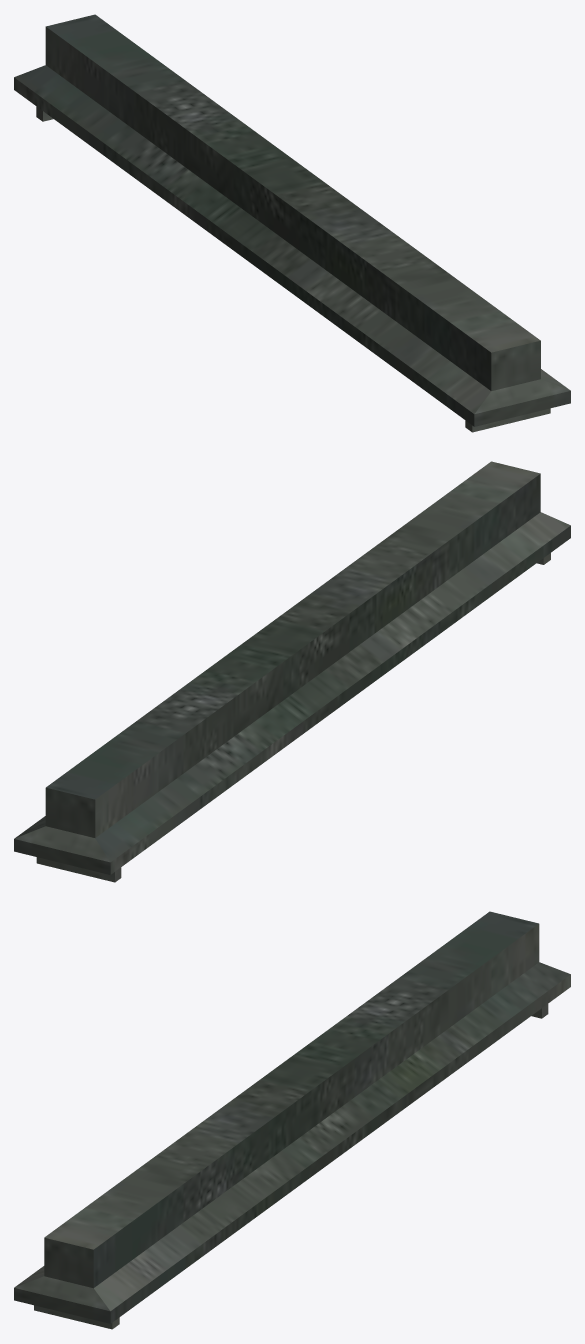
File: lights_florescent01a.glb
3 views of the same model, one above another, from view 1: azimuth 30°, elevation 25°; view 2: azimuth 150°, elevation 25°; view 3: azimuth 330°, elevation 25° (orthographic).
Visible parts, largest first — view 1: 0_FlorescentLight01a; view 2: 0_FlorescentLight01a; view 3: 0_FlorescentLight01a.
Part boxes in pixels (x1,y1,x2,y2): 0_FlorescentLight01a: (14, 14, 570, 432); 0_FlorescentLight01a: (14, 461, 570, 882); 0_FlorescentLight01a: (14, 911, 570, 1329).
Size of the model in its own units: 0.2035 by 0.1675 by 1.68.
1 material, 1 textured.
